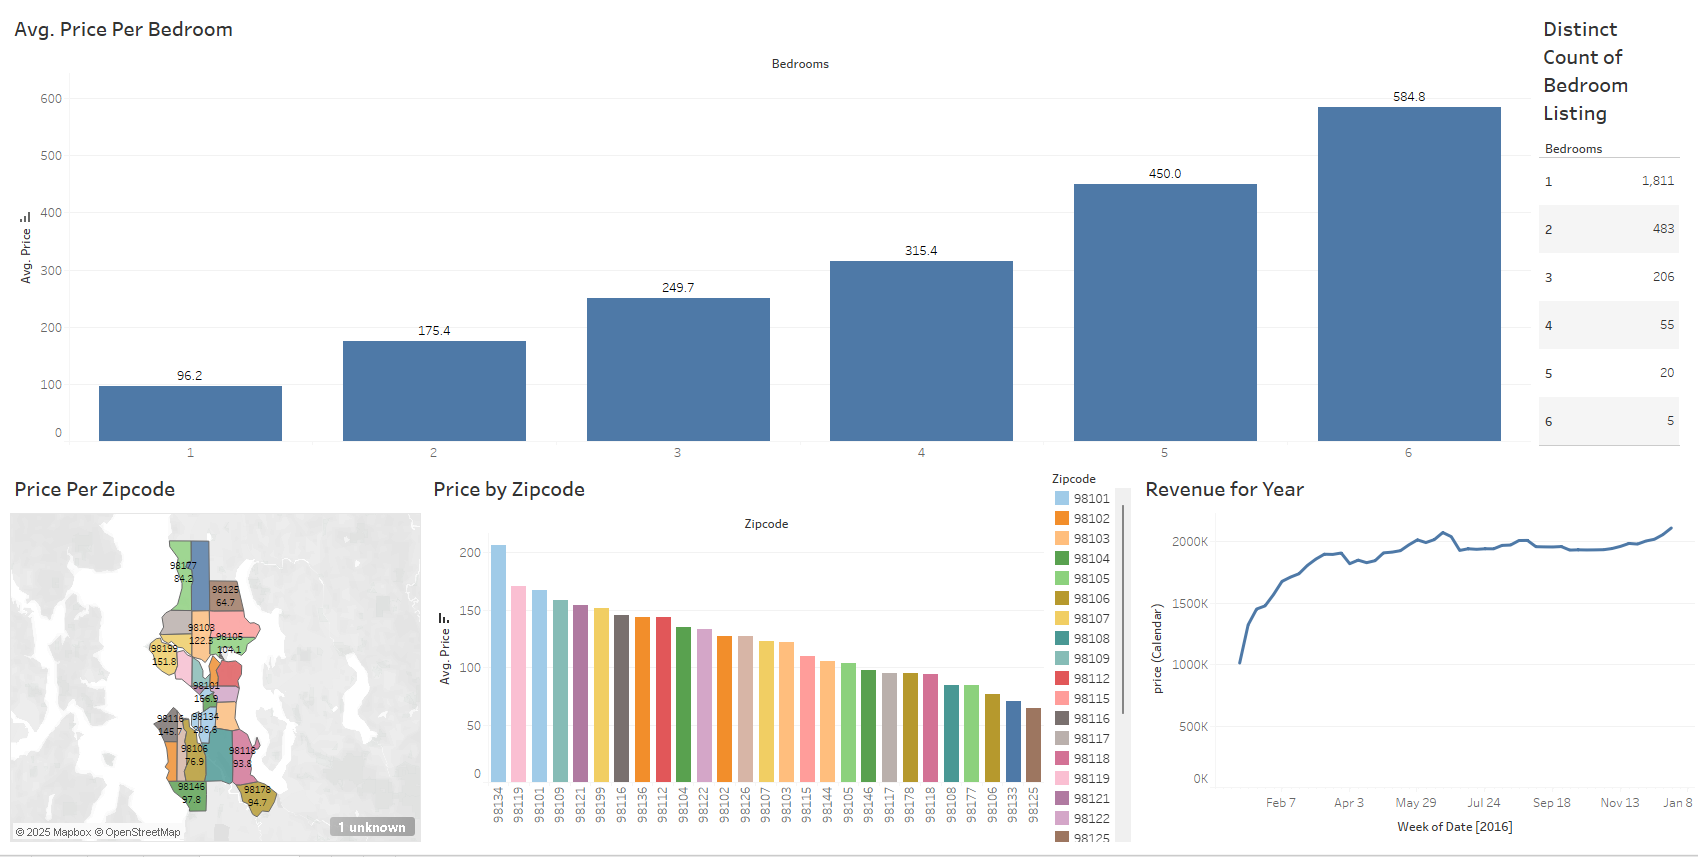

What the dashboard file says about the page in this screenshot:
{"tool":"tableau","page":{"name":"Dashboard 1","canvas":[1000,1000],"units":"permille","ordinal":0},"visuals":[{"type":"worksheet","title":"Sheet 4","mark":"Automatic","rows":["price"],"cols":["bedrooms"],"box":[4.6,9.3,894.8,537.4]},{"type":"worksheet","title":"Sheet 5","mark":"Automatic","rows":["bedrooms"],"box":[899.4,9.3,96.1,537.4]},{"type":"worksheet","title":"Sheet 2","mark":"Multipolygon","box":[4.6,546.7,245.3,443.9]},{"type":"worksheet","title":"Sheet 1","mark":"Automatic","rows":["price"],"cols":["zipcode"],"box":[249.9,546.7,364.8,443.9]},{"type":"legend","title":"Sheet 1","param":"[federated.1qoze8f0gdf9ia1c4h3hz1jgts0h].[none:zipcode:ok]","box":[614.6,546.7,52,443.9]},{"type":"worksheet","title":"Sheet 3","mark":"Automatic","rows":["price (Calendar)"],"cols":["date"],"box":[666.7,546.7,328.8,443.9]}]}

Visuals, with their boxes on the dashboard's canvas, which has no fixed pixel size, in thousandths of its width and height (x1, y1, x2, y2). These are canvas units, not pixel positions in the 1698x857 screenshot, which may show the page scaled, cropped or inside an application window:
"Sheet 4" worksheet: <bbox>5, 9, 899, 547</bbox>
"Sheet 5" worksheet: <bbox>899, 9, 996, 547</bbox>
"Sheet 2" worksheet (Multipolygon marks): <bbox>5, 547, 250, 991</bbox>
"Sheet 1" worksheet: <bbox>250, 547, 615, 991</bbox>
"Sheet 1" legend: <bbox>615, 547, 667, 991</bbox>
"Sheet 3" worksheet: <bbox>667, 547, 996, 991</bbox>
